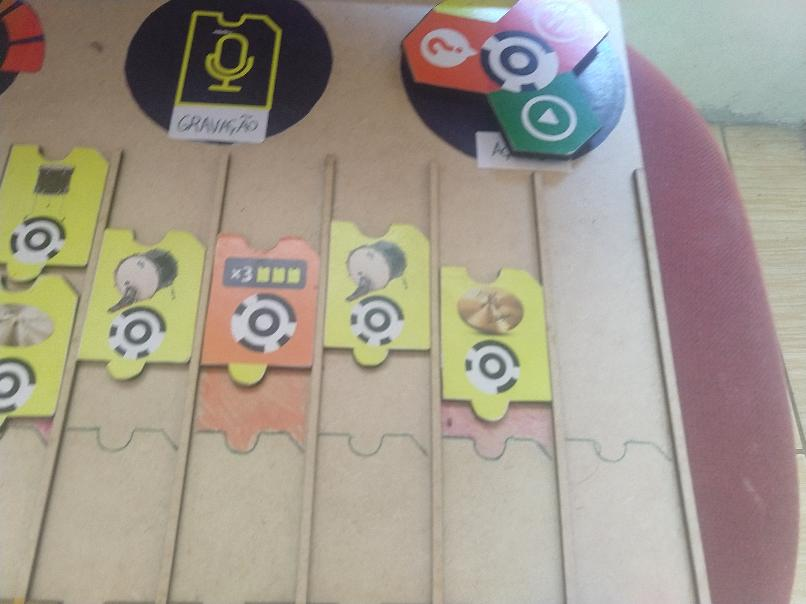bumbo: (75, 227, 206, 388), (319, 218, 434, 370)
